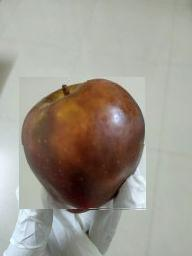Apple Rotten: (20, 78, 147, 211)
